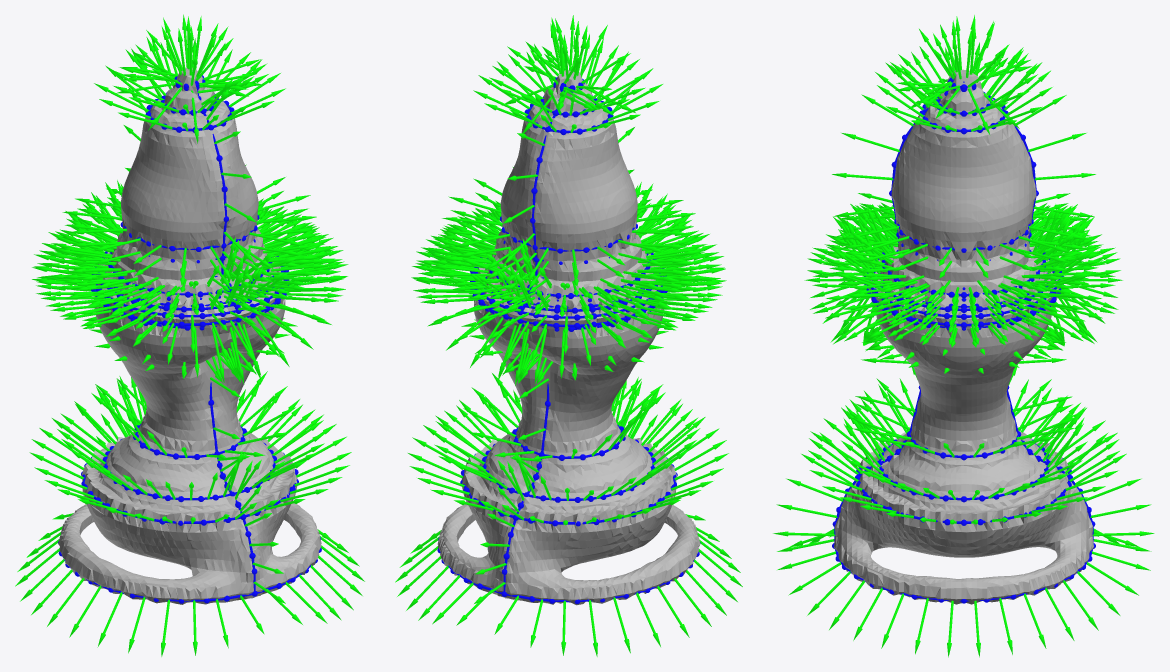
The model's file is onshape_bishop.gltf.
The picture shows the model from 3 angles, left to right: view 1: azimuth 30°, elevation 25°; view 2: azimuth 150°, elevation 25°; view 3: azimuth 270°, elevation 25°; orthographic projection.
Size of the model in its own units: 0.5529 by 0.9833 by 0.6069.
